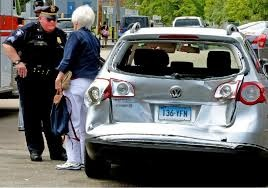Broken-glass: (110, 39, 245, 78)
Dent: (106, 77, 244, 129)
